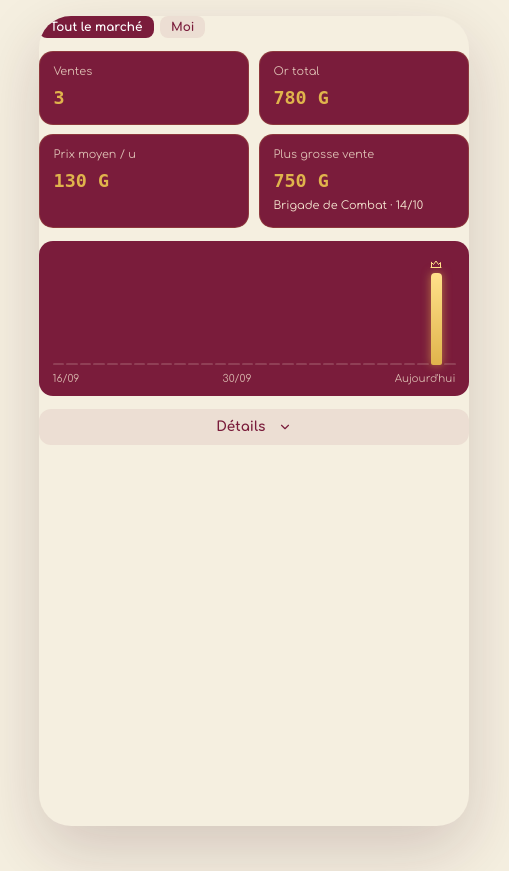
it: SalesHistory › affiche les 4 stats clés et ne charge la liste qu'à l'ouverture des détails
Expected: the text "780 G" is shown, [273,87,329,108]
Expected: the text "130 G" is shown, [54,170,109,191]
Click the button "Détails" at (254, 427), box [39,409,469,445]
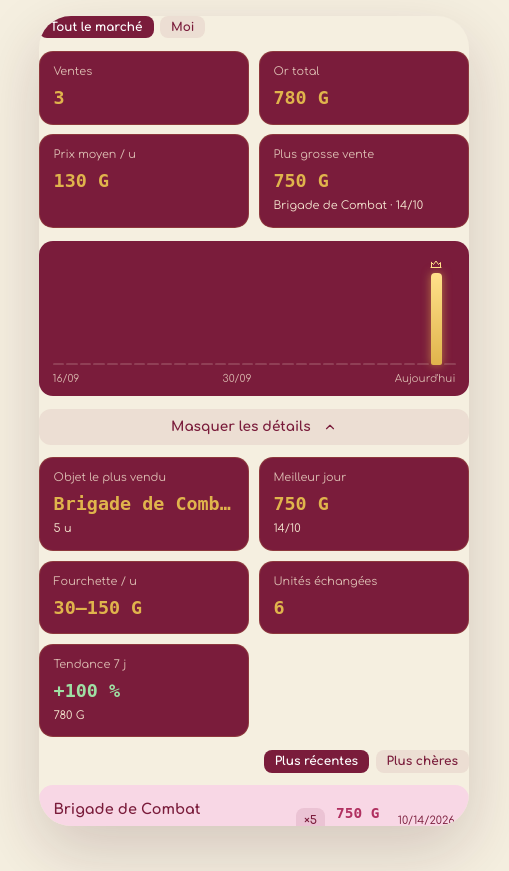
Now the text "Objet le plus vendu" is shown, box [54,471,166,484]
Now the text "+100 %" is shown, box [54,680,120,701]
